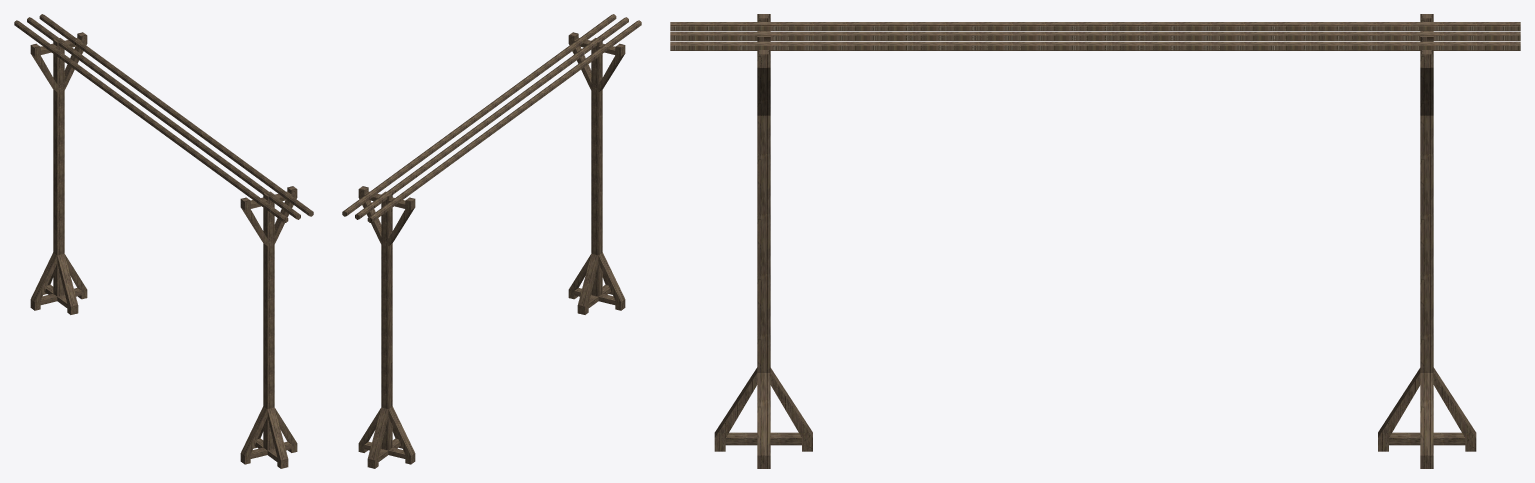
File: Clotheshorse.fbx
The picture shows the model from 3 angles, left to right: view 1: azimuth 30°, elevation 25°; view 2: azimuth 150°, elevation 25°; view 3: azimuth 270°, elevation 25°; orthographic projection. The views are drawn at different scales.
Parts seen in each view (by area): view 1: polySurface2, polySurface6, polySurface3, polySurface4, polySurface5; view 2: polySurface2, polySurface6, polySurface3, polySurface4, polySurface5; view 3: polySurface2, polySurface6, polySurface3, polySurface4, polySurface5.
Part boxes in pixels (x1,y1,x2,y2): polySurface2: (30,32,87,314); polySurface6: (240,186,297,468); polySurface3: (39,14,313,216); polySurface4: (14,20,288,222); polySurface5: (27,17,300,219); polySurface2: (358,186,415,468); polySurface6: (568,32,625,314); polySurface3: (342,14,616,216); polySurface4: (367,20,641,222); polySurface5: (355,17,628,219); polySurface2: (1378,14,1476,468); polySurface6: (714,14,812,468); polySurface3: (670,41,1520,50); polySurface4: (670,22,1520,31); polySurface5: (670,32,1520,40).
Size of the model in its own units: 0.2881 by 1.39 by 2.56.
1 material, 1 textured.
